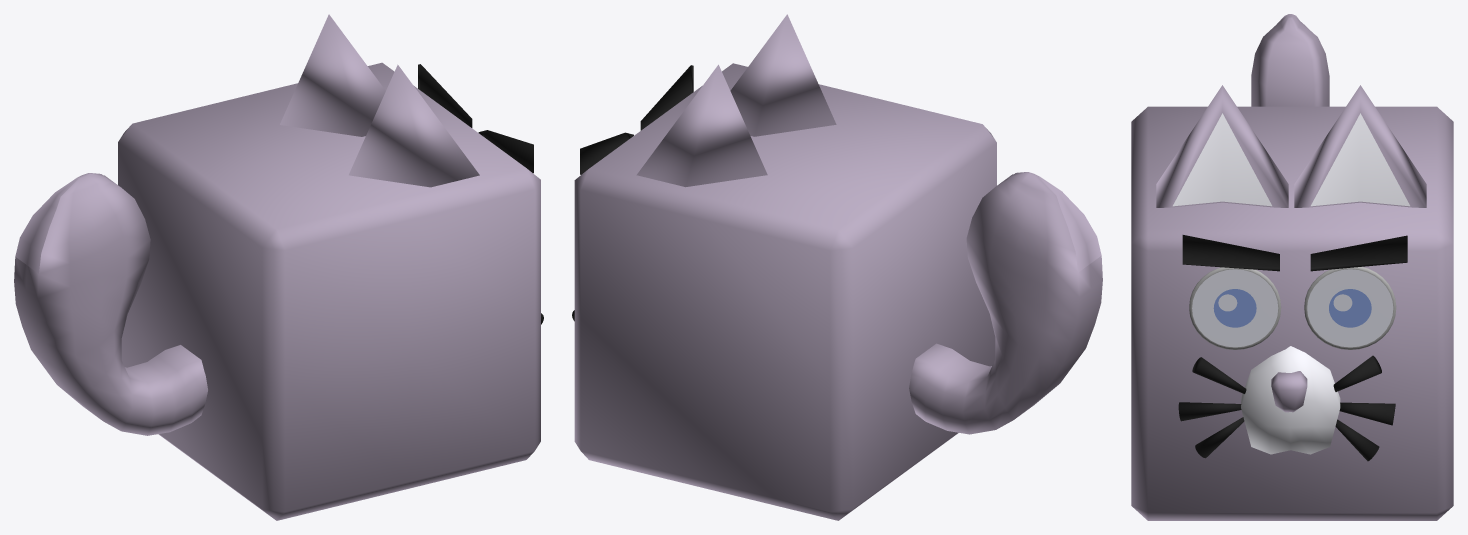
Rendered from caaatMaain2.fbx.
The picture shows the model from 3 angles, left to right: view 1: azimuth 30°, elevation 25°; view 2: azimuth 150°, elevation 25°; view 3: azimuth 270°, elevation 25°; orthographic projection.
Visible parts, largest first — view 1: Circle, Cube; view 2: Circle, Cube; view 3: Circle, Cube.
Boxes of the visible parts, x1,y1,x2,y2 form: Circle: [118, 14, 543, 520]; Cube: [14, 64, 533, 435]; Circle: [572, 14, 996, 520]; Cube: [580, 65, 1102, 434]; Circle: [1131, 85, 1453, 520]; Cube: [1182, 14, 1407, 271].
Size of the model in its own units: 350 by 268 by 200.
